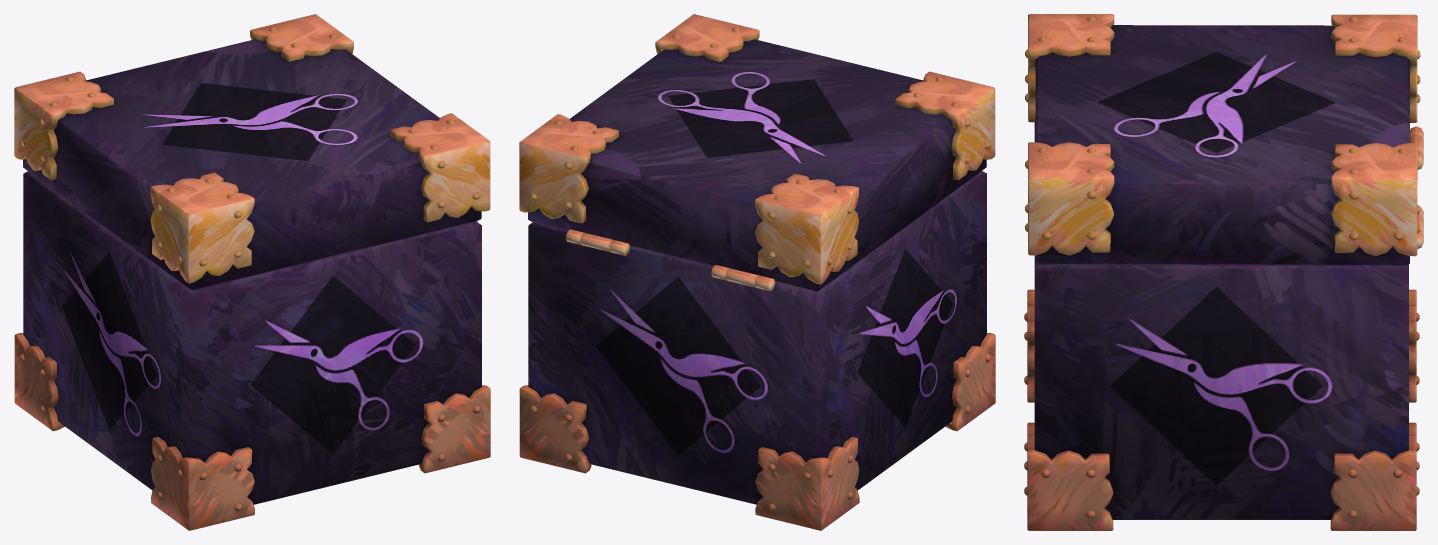
File: prop_converter.fbx
The picture shows the model from 3 angles, left to right: view 1: azimuth 30°, elevation 25°; view 2: azimuth 150°, elevation 25°; view 3: azimuth 270°, elevation 25°; orthographic projection. The views are drawn at different scales.
Visible parts, largest first — view 1: decor_converter_common, decor_converter_top, decor_converter_corners2, decor_converter_corners1; view 2: decor_converter_common, decor_converter_top, decor_converter_corners2, decor_converter_corners1, decor_converter_hinge; view 3: decor_converter_common, decor_converter_top, decor_converter_corners2, decor_converter_corners1, decor_converter_hinge.
Part boxes in pixels (bbox=[...]): decor_converter_common: bbox=[23, 171, 481, 504]; decor_converter_top: bbox=[23, 39, 481, 290]; decor_converter_corners2: bbox=[14, 14, 490, 283]; decor_converter_corners1: bbox=[14, 333, 490, 530]; decor_converter_common: bbox=[528, 171, 986, 504]; decor_converter_top: bbox=[528, 39, 986, 291]; decor_converter_corners2: bbox=[519, 14, 995, 284]; decor_converter_corners1: bbox=[519, 333, 995, 530]; decor_converter_hinge: bbox=[566, 229, 775, 290]; decor_converter_common: bbox=[1034, 122, 1408, 519]; decor_converter_top: bbox=[1035, 25, 1409, 265]; decor_converter_corners2: bbox=[1025, 14, 1420, 256]; decor_converter_corners1: bbox=[1024, 289, 1419, 530]; decor_converter_hinge: bbox=[1410, 126, 1423, 248].
Bounding box in the file's own units: 106 × 106 × 107.
Materials: 2 (2 with a texture image).
